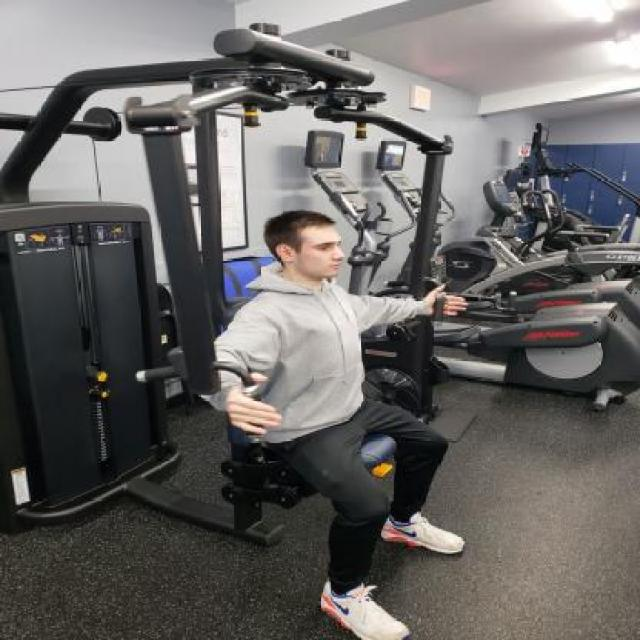chest fly machine: (0, 11, 494, 640)
